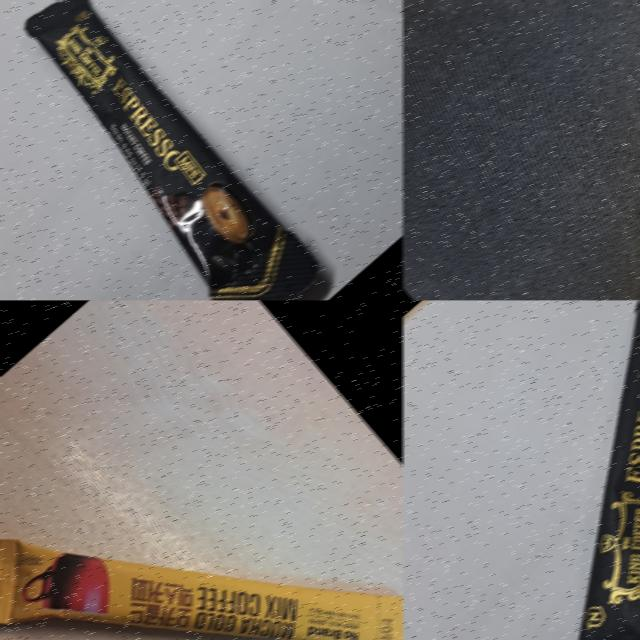espresso_mini: (0, 0, 354, 300), (402, 300, 640, 640)
mix_coffee: (0, 329, 403, 640), (431, 0, 640, 300)
